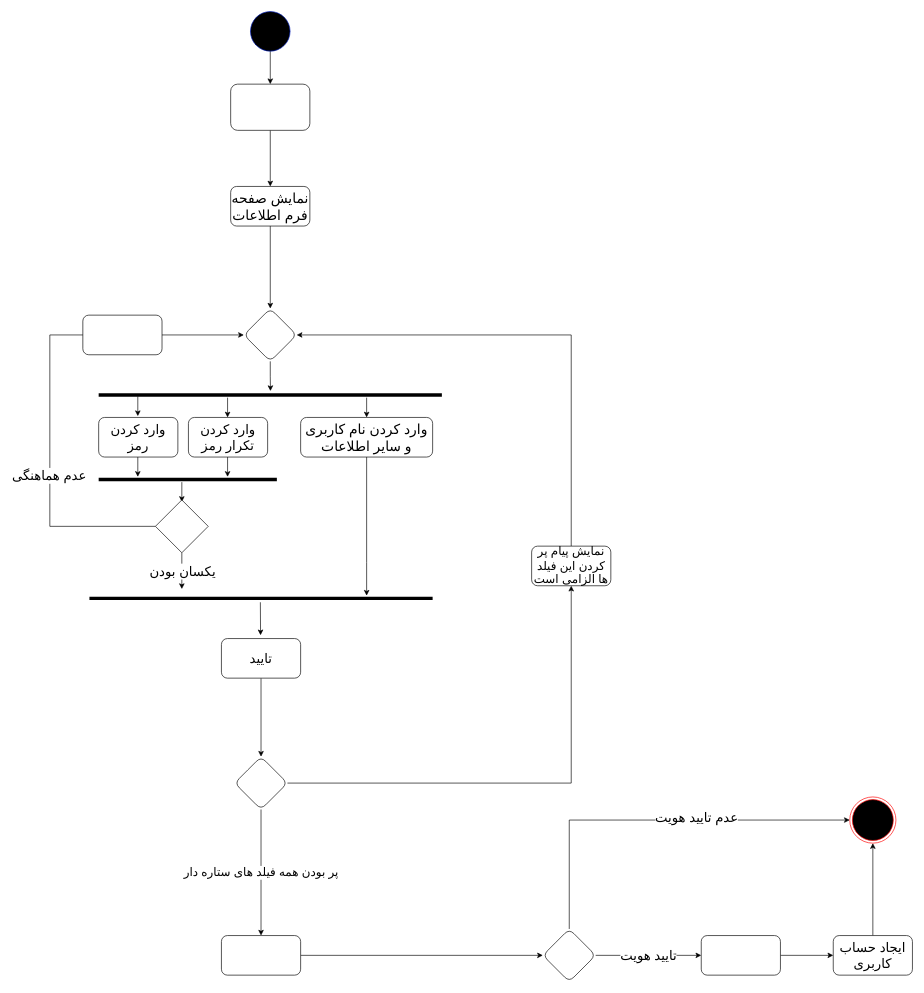
Some shapes in this 924 by 993 pixel diagram are drawn without their labels. The centre of each missing label's shape, as x and y in pixels:
"ارسال ایمیل اهراز هویت" belongs at (x=261, y=955).
"ثبت در دیتا بیس" belongs at (x=740, y=955).
"نشان دادن پیام مناسب" belongs at (x=122, y=334).
"کلیک روی ثبت نام" belongs at (x=270, y=106).
